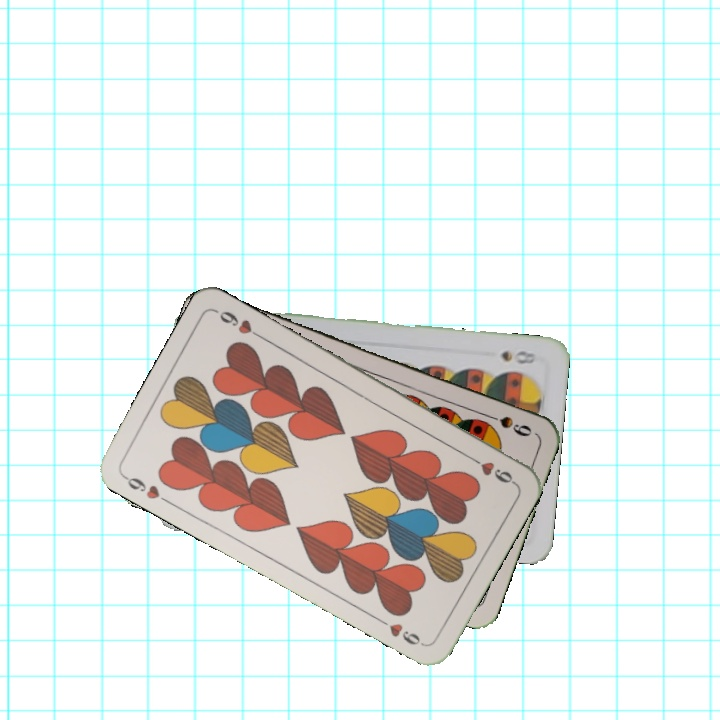H9: (464, 451, 518, 487), (119, 471, 173, 507)
S8: (496, 346, 539, 367)
S9: (479, 409, 535, 440)
